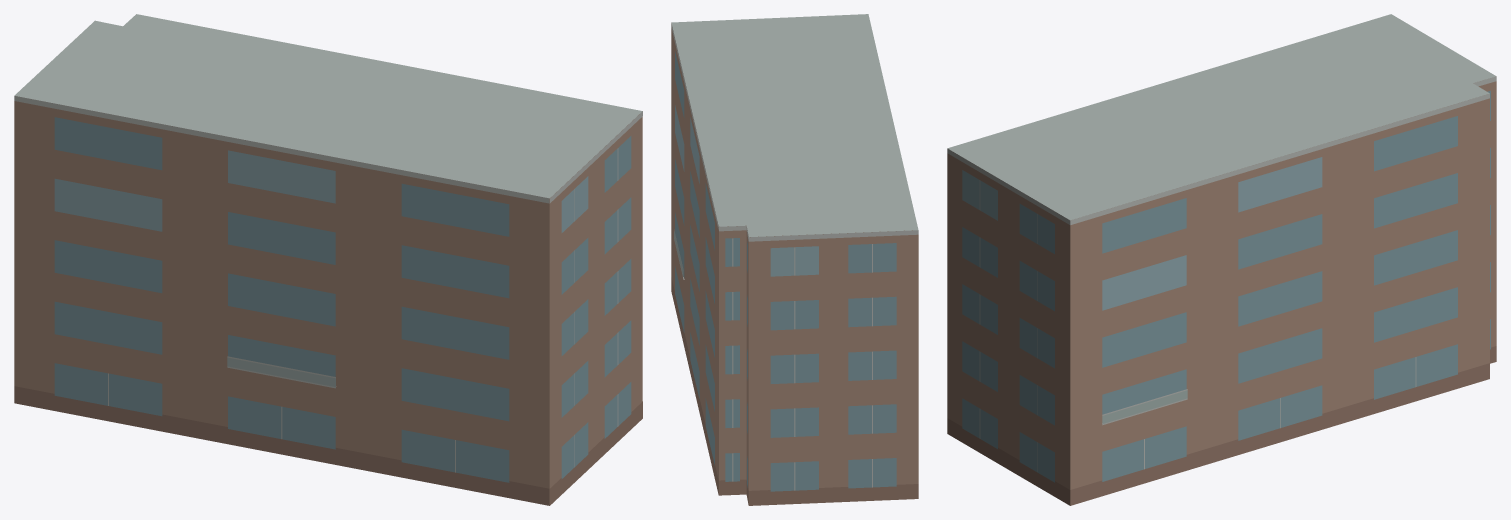
File: survey-upis-32694349.glb
3 views of the same model, side by side, from view 1: azimuth 30°, elevation 25°; view 2: azimuth 150°, elevation 25°; view 3: azimuth 270°, elevation 25° (orthographic). The views are drawn at different scales.
Parts seen in each view (by area): view 1: survey-upis-32694349.tmp; view 2: survey-upis-32694349.tmp; view 3: survey-upis-32694349.tmp.
Boxes of the visible parts, x1,y1,x2,y2 form: survey-upis-32694349.tmp: (14,14,642,505); survey-upis-32694349.tmp: (671,14,918,505); survey-upis-32694349.tmp: (947,14,1496,505).
Bounding box in the file's own units: 22.34 × 14.4 × 25.12.
